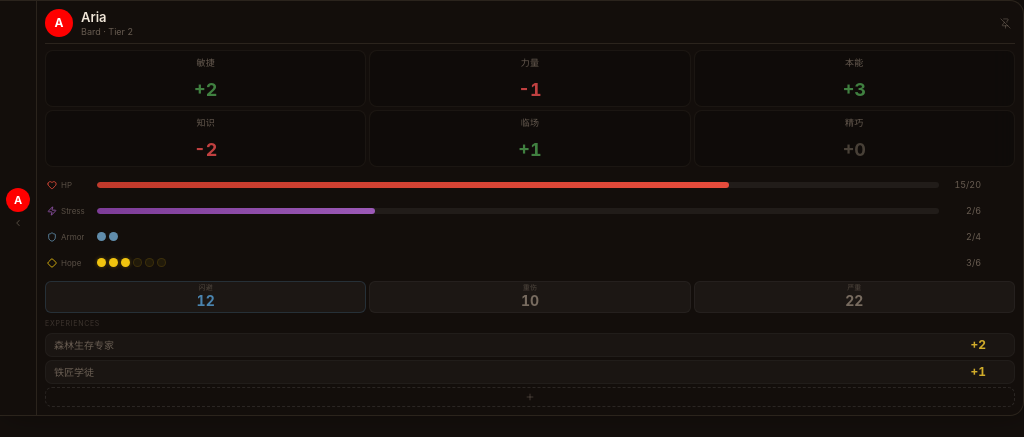
Test: CharacterCard › expanded state › clicking edit zone opens input
Step 1. Click the element with test id "attr-edit-zone" showing "+2" → (206, 90), box [194,79,217,100]
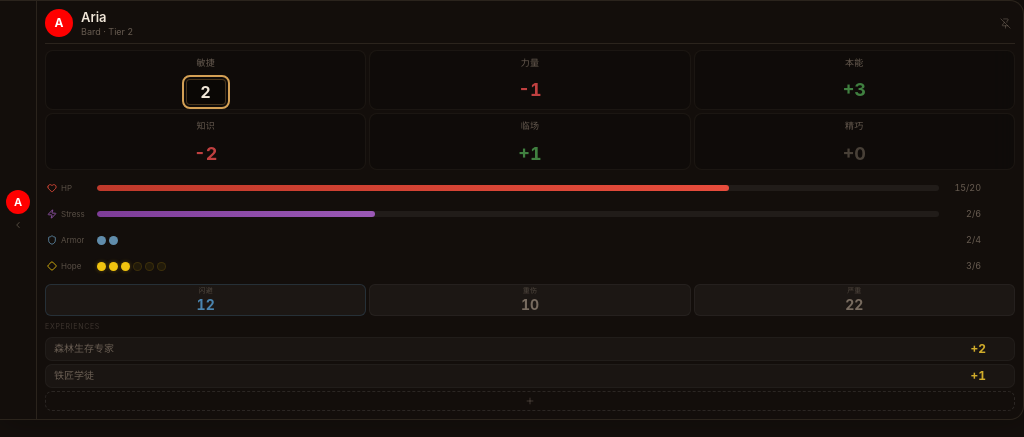
Now the field with test id "attr-input" is shown, box [186,79,226,105]
